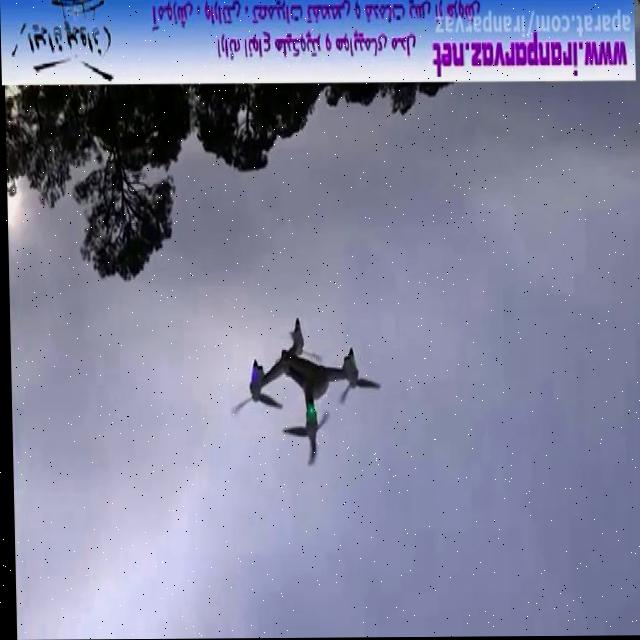drone: (224, 316, 384, 475)
